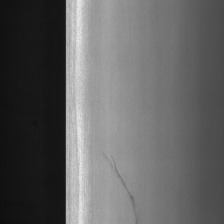water_spot: (101, 147, 144, 224)
